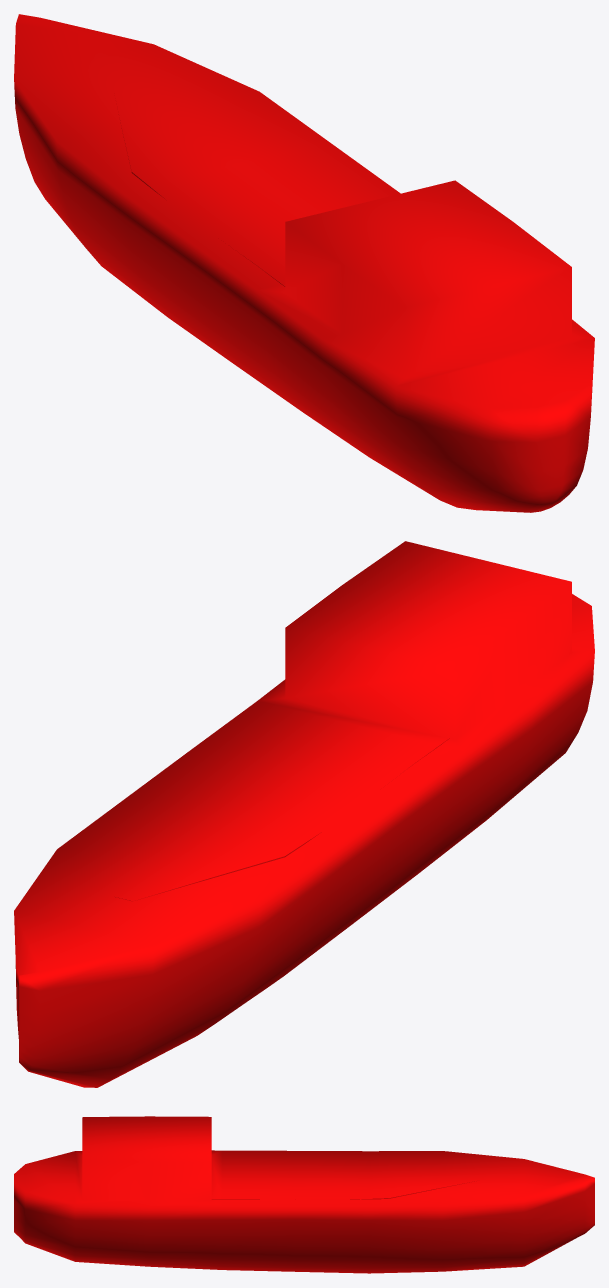
The model's file is boatRed.gltf.
3 renders of one model, top to bottom at view 1: azimuth 30°, elevation 25°; view 2: azimuth 150°, elevation 25°; view 3: azimuth 270°, elevation 25°, orthographic. The views are drawn at different scales.
Visible parts, largest first — view 1: Cylinder; view 2: Cylinder; view 3: Cylinder.
Part boxes in pixels (box(x1,y1,x2,y2)): Cylinder: box(14, 14, 594, 512); Cylinder: box(14, 541, 594, 1087); Cylinder: box(14, 1116, 594, 1273).
Bounding box in the file's own units: 3.05 × 3.31 × 13.31.
